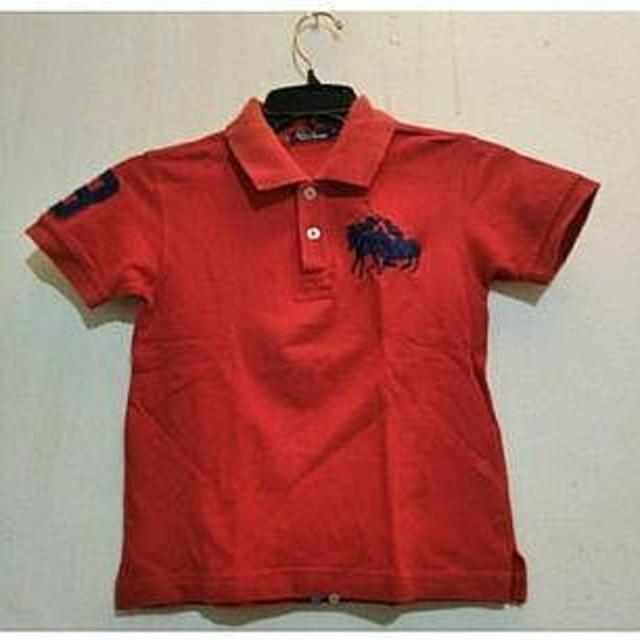T_SHIRT: (12, 78, 633, 615)
